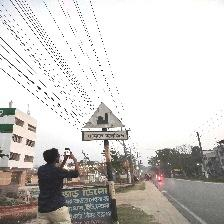Mosque in front: (82, 103, 127, 142)
